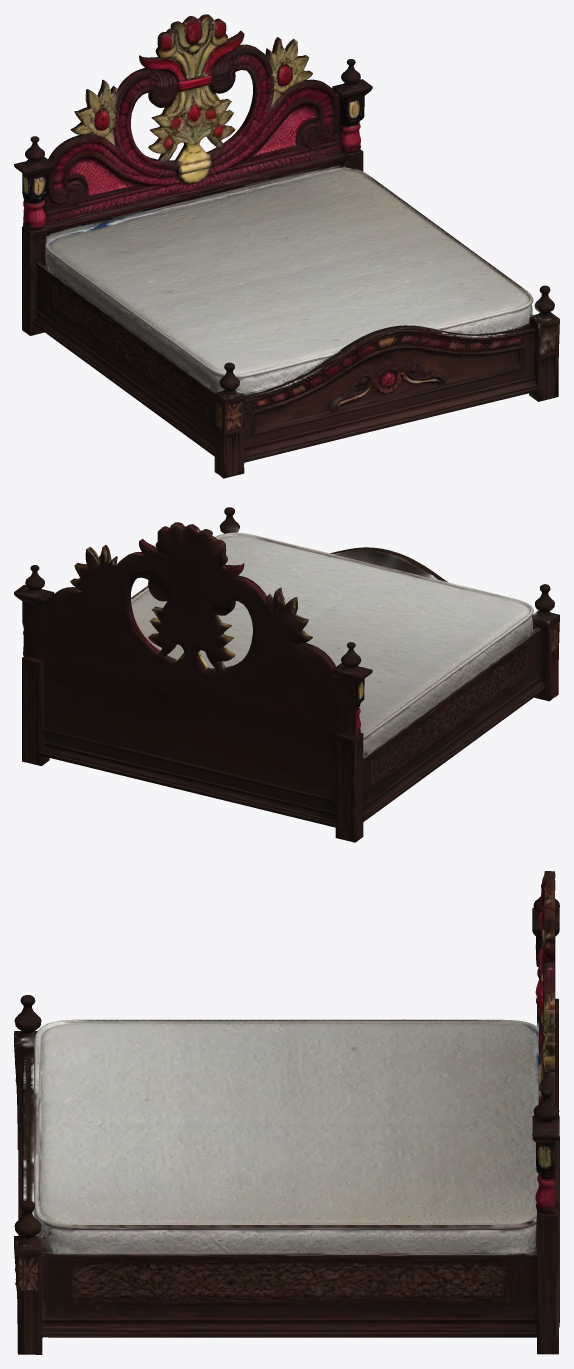
Rendered from bed1.glb.
3 renders of one model, top to bottom at view 1: azimuth 30°, elevation 25°; view 2: azimuth 150°, elevation 25°; view 3: azimuth 270°, elevation 25°, orthographic. The views are drawn at different scales.
Visible parts, largest first — view 1: node_0; view 2: node_0; view 3: node_0.
Boxes of the visible parts, x1=… form: node_0: x1=14, y1=14, x2=559, y2=478; node_0: x1=14, y1=507, x2=559, y2=842; node_0: x1=14, y1=871, x2=559, y2=1354.
Bounding box in the file's own units: 0.7606 × 0.5731 × 0.7722.
1 material, 1 textured.
